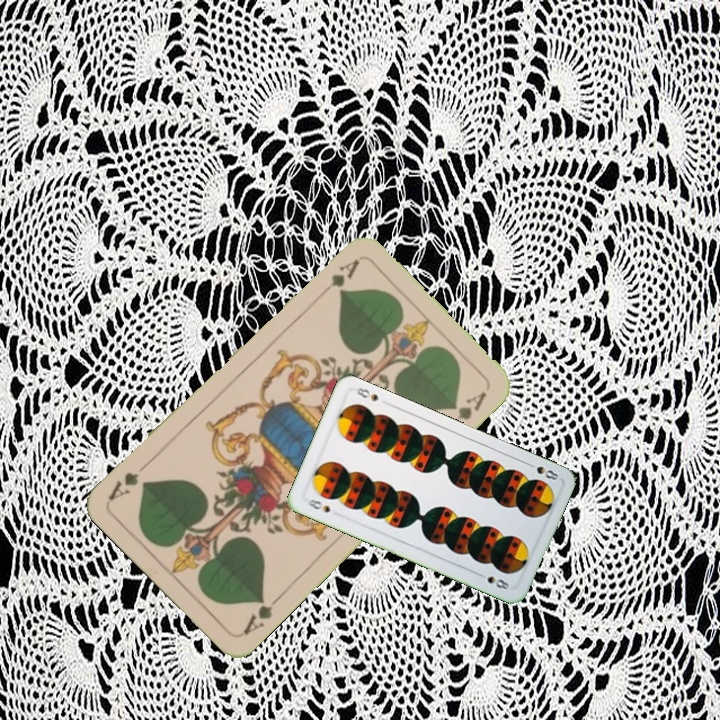GA: (238, 590, 285, 638), (314, 255, 363, 301)
S8: (522, 459, 561, 483), (304, 495, 333, 515)
